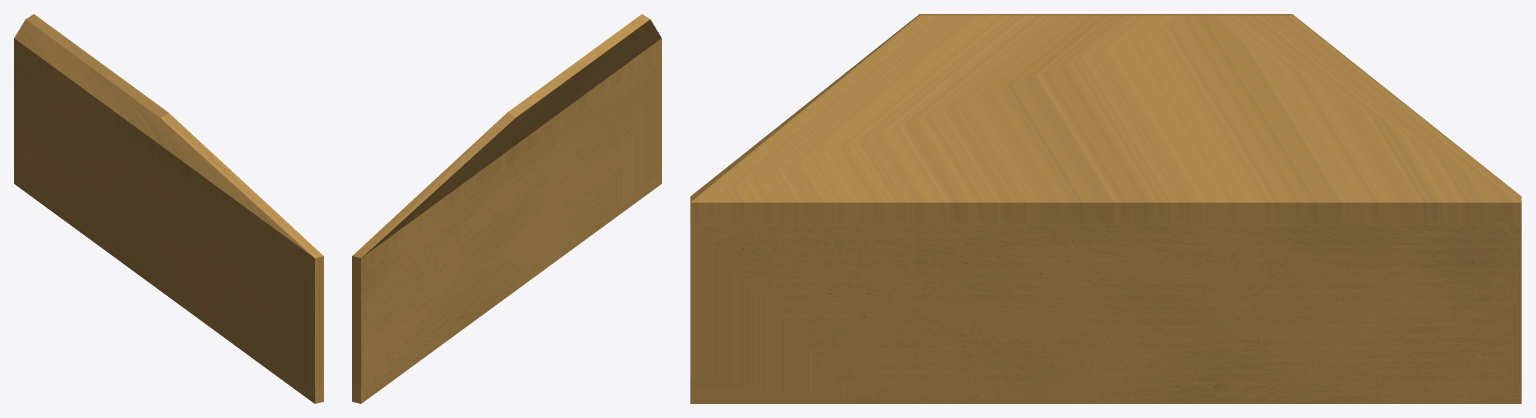
The model's file is box_back.dae.
3 renders of one model, left to right at view 1: azimuth 30°, elevation 25°; view 2: azimuth 150°, elevation 25°; view 3: azimuth 270°, elevation 25°, orthographic. The views are drawn at different scales.
Parts seen in each view (by area): view 1: Back; view 2: Back; view 3: Back.
Boxes of the visible parts, x1,y1,x2,y2 form: Back: [14, 14, 323, 403]; Back: [352, 14, 661, 403]; Back: [690, 14, 1521, 403].
Bounding box in the file's own units: 2.24 × 14.5 × 6.55.
1 material, 1 textured.
